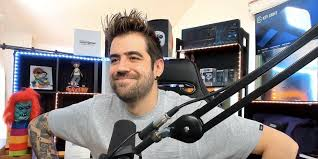person: (26, 9, 299, 157)
